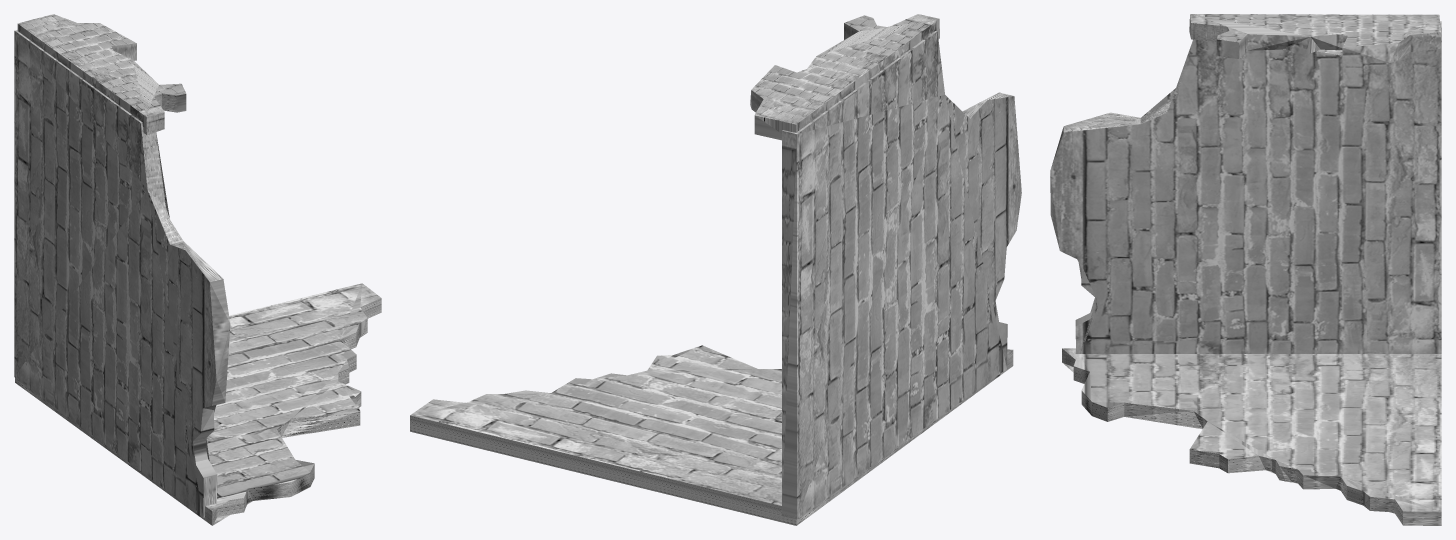
Rendered from 1AWallBrokenL_wtf.obj.
3 views of the same model, side by side, from view 1: azimuth 30°, elevation 25°; view 2: azimuth 150°, elevation 25°; view 3: azimuth 270°, elevation 25° (orthographic). The views are drawn at different scales.
Visible parts, largest first — view 1: group2; view 2: group2; view 3: group2.
Boxes of the visible parts, x1,y1,x2,y2 form: group2: (14,14,381,525); group2: (410,14,1021,525); group2: (1050,14,1441,525).
Bounding box in the file's own units: 655 × 649 × 660.
